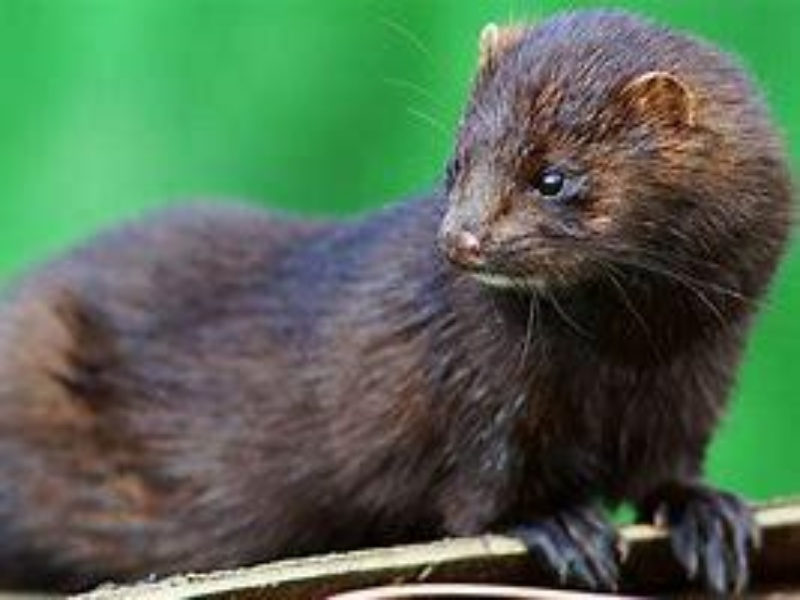minkish: (5, 4, 790, 598)
